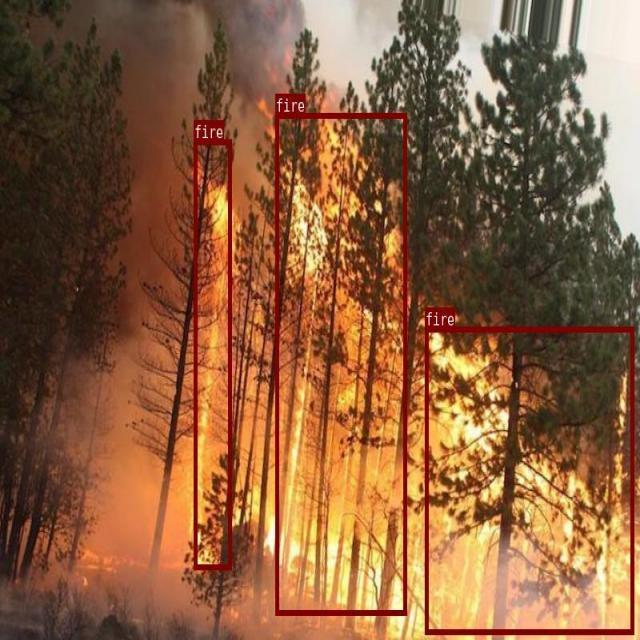fire: (275, 113, 406, 615), (425, 326, 633, 634), (193, 139, 231, 569)
